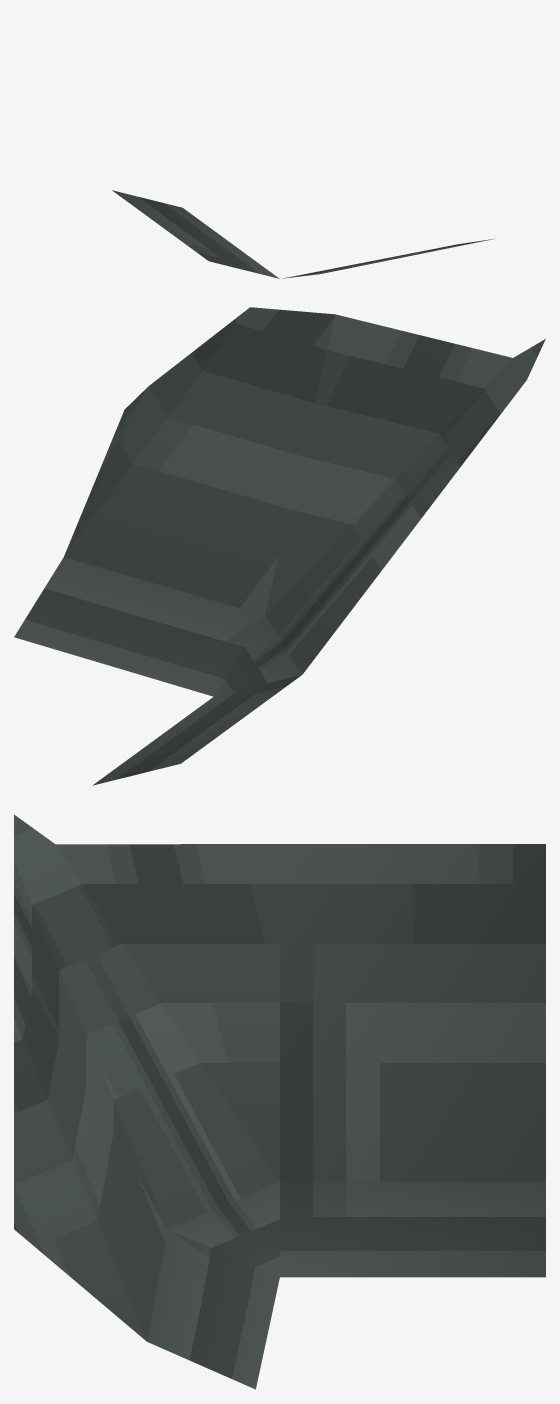
The picture shows the model from 3 angles, top to bottom: view 1: azimuth 30°, elevation 25°; view 2: azimuth 150°, elevation 25°; view 3: azimuth 270°, elevation 25°; orthographic projection. The views are drawn at different scales.
Bounding box in the file's own units: 1 × 0.7268 × 1.
Materials: 2 (2 with a texture image).
